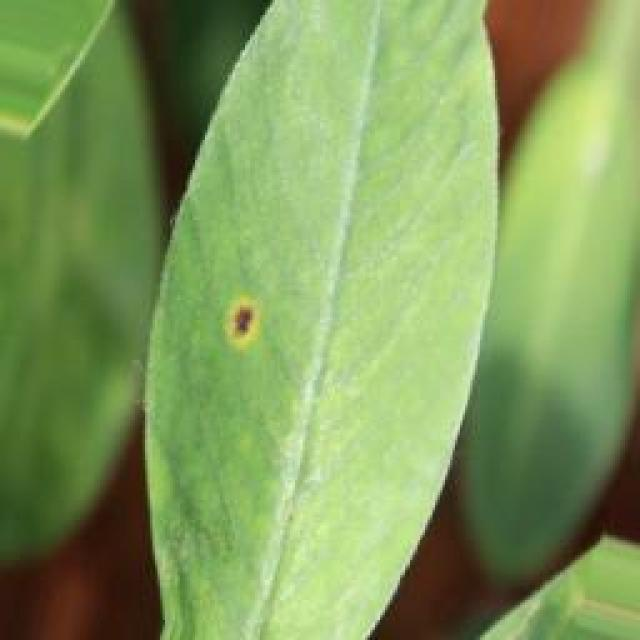Sigatoka: (216, 282, 276, 361)
